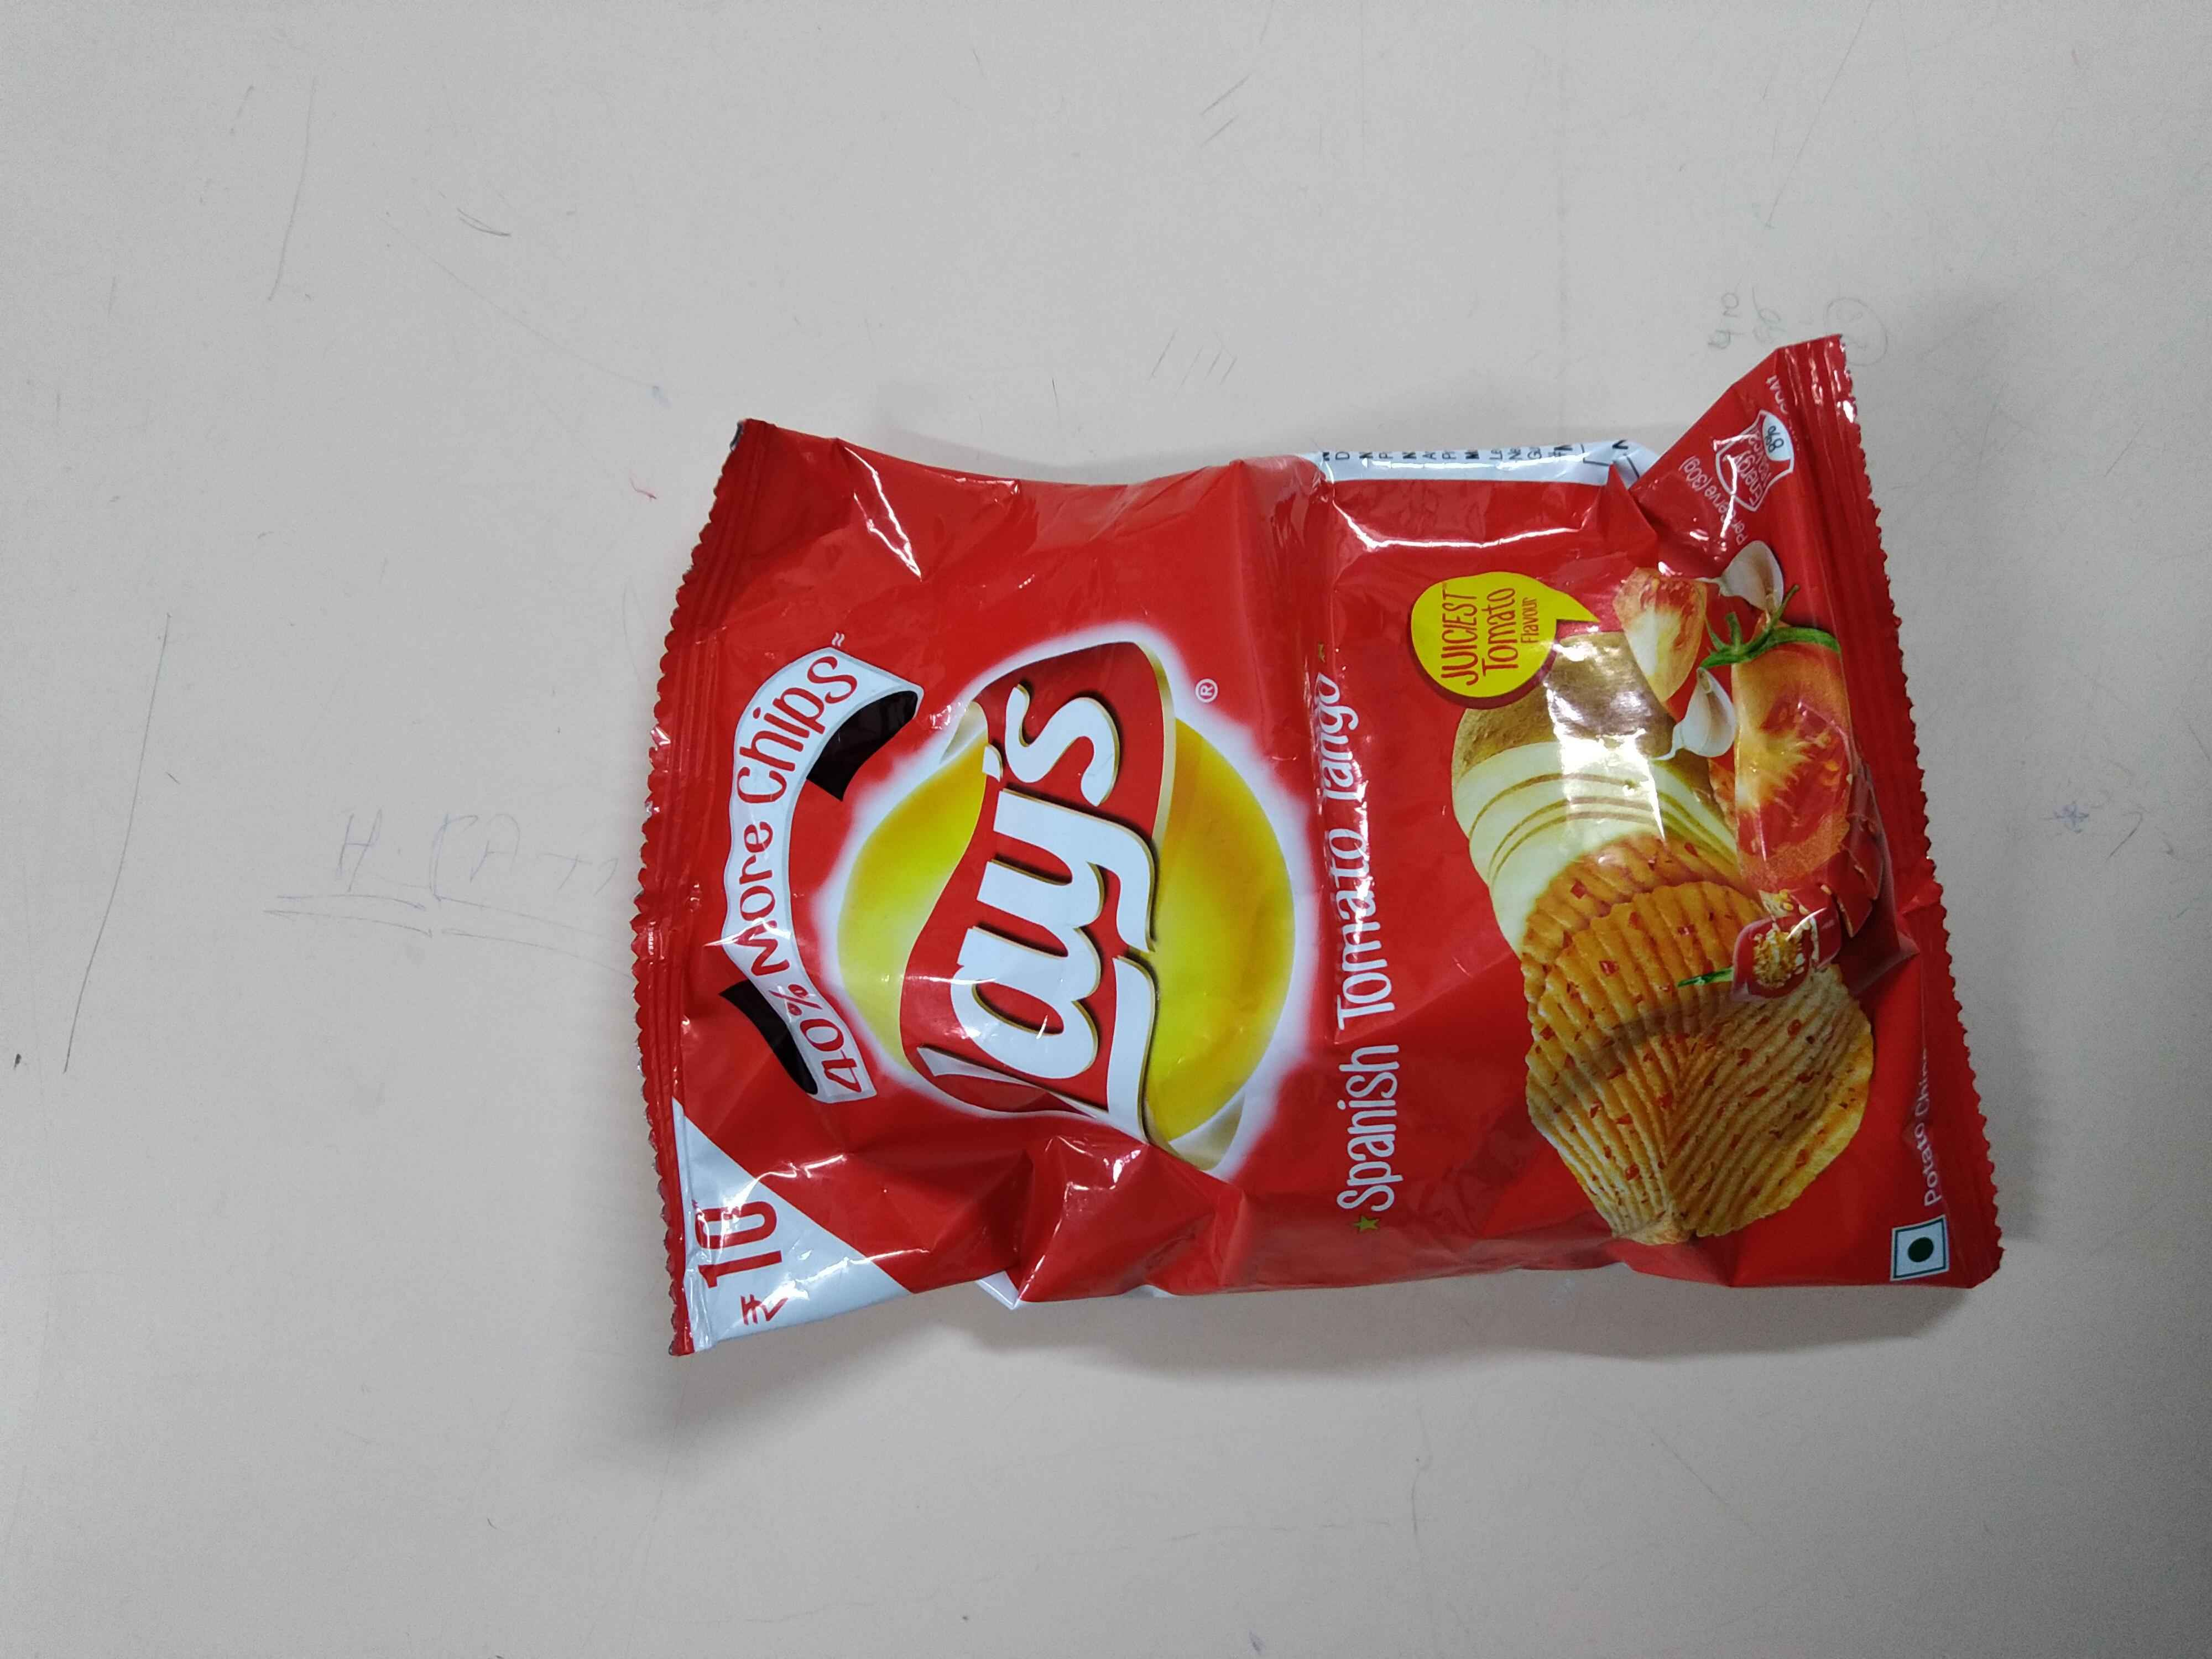Lays: (806, 606, 1310, 1185)
